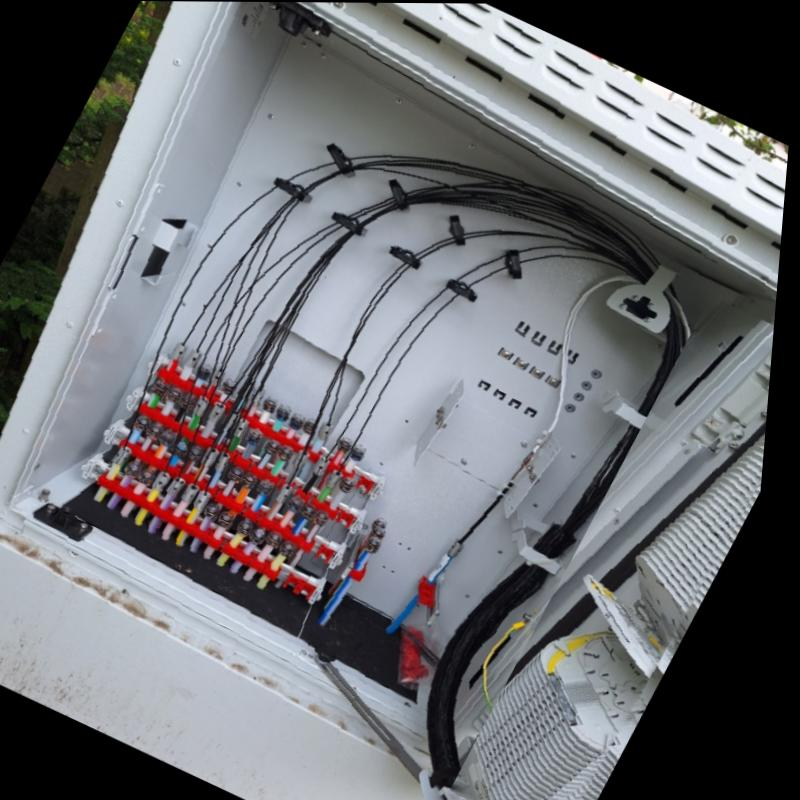NT-Gehause: (0, 1, 789, 800)
Spleiskassetten: (483, 422, 773, 800)
